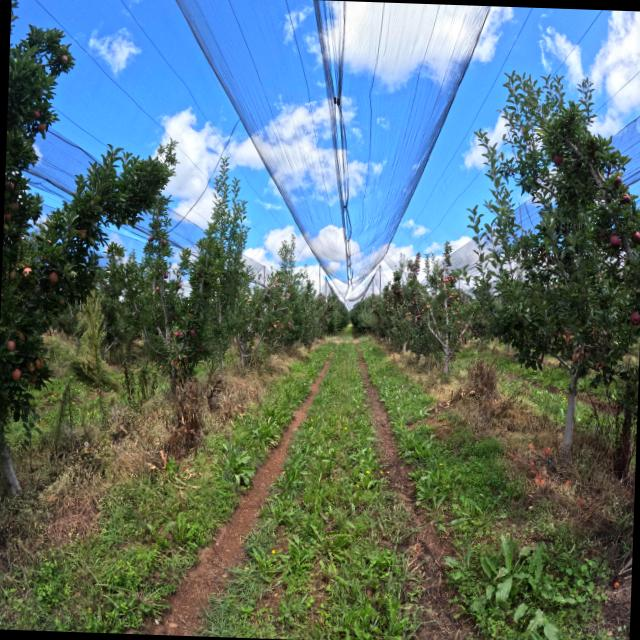-FireBlight-: (572, 342, 593, 367), (563, 332, 571, 343)
